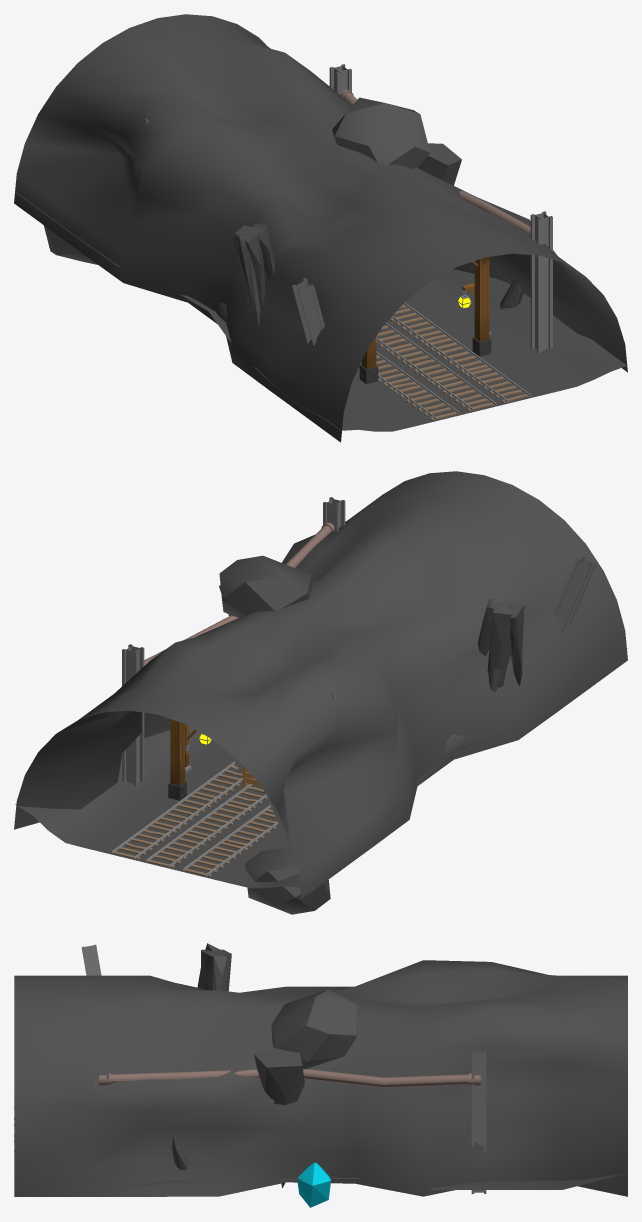
The model's file is Modulo de madeira V2.fbx.
3 renders of one model, top to bottom at view 1: azimuth 30°, elevation 25°; view 2: azimuth 150°, elevation 25°; view 3: azimuth 270°, elevation 25°, orthographic. The views are drawn at different scales.
Parts seen in each view (by area): view 1: Cube.014; view 2: Cube.014; view 3: Cube.014.
Boxes of the visible parts, x1,y1,x2,y2 form: Cube.014: (14, 14, 627, 442); Cube.014: (14, 471, 627, 914); Cube.014: (14, 943, 627, 1207).
Bounding box in the file's own units: 2458 × 1755 × 4762.
